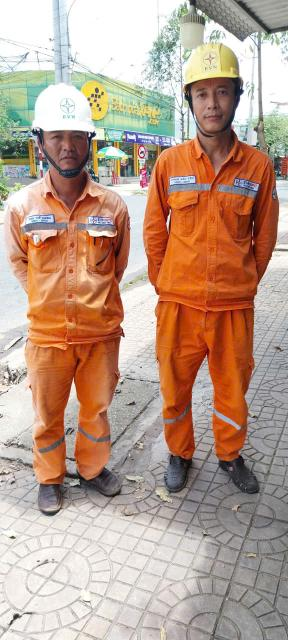helmet: (24, 69, 103, 142), (165, 36, 257, 95)
shoes: (138, 434, 201, 493), (214, 447, 269, 496), (28, 464, 71, 518), (82, 458, 122, 501)
